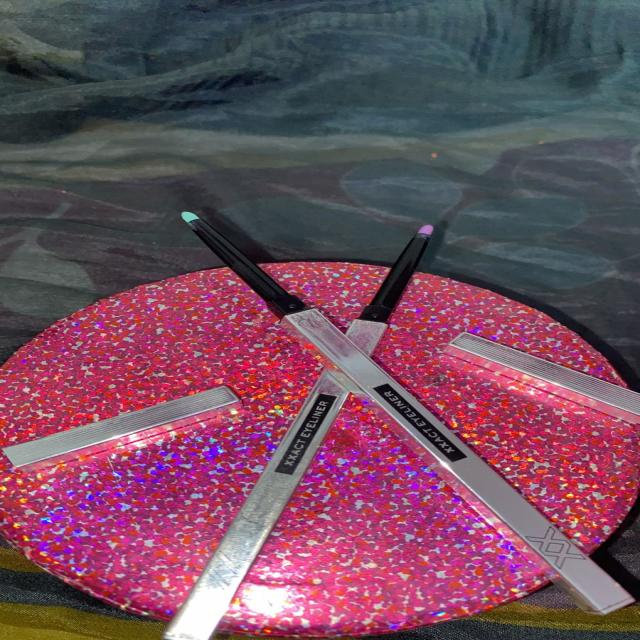lip liner: (145, 206, 321, 313), (336, 215, 462, 324)
